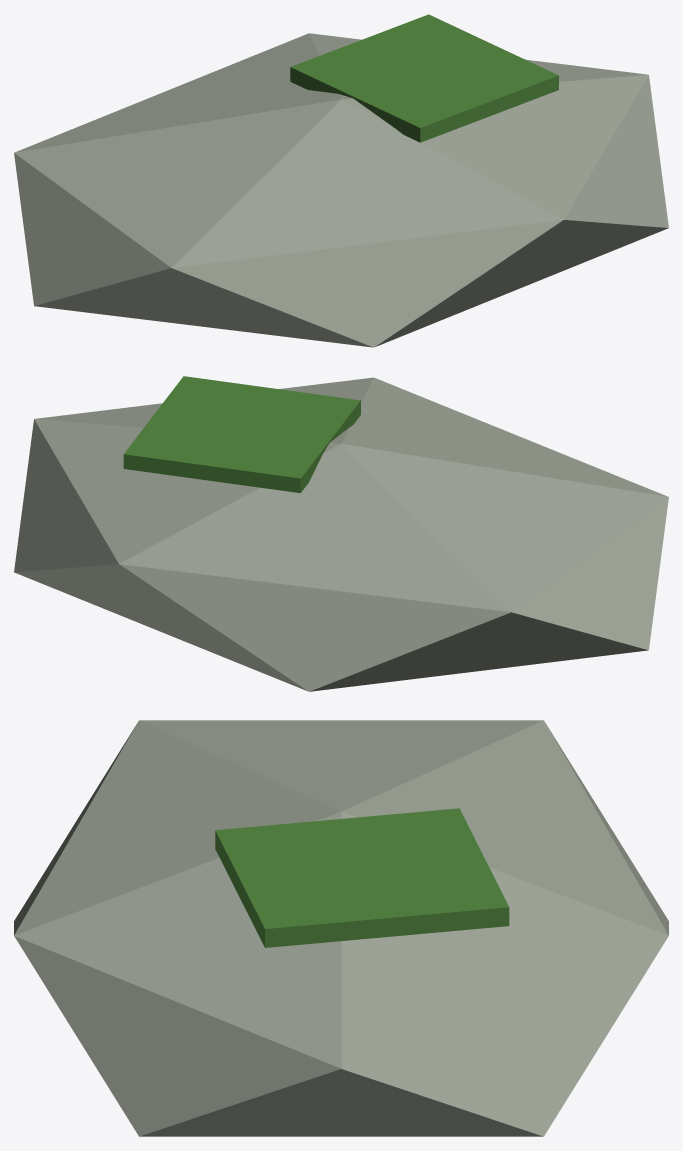
Rendered from SM_MistForestFlatStoneSlab_A.glb.
3 renders of one model, top to bottom at view 1: azimuth 30°, elevation 25°; view 2: azimuth 150°, elevation 25°; view 3: azimuth 270°, elevation 25°, orthographic. The views are drawn at different scales.
Parts seen in each view (by area): view 1: SM_MistForestFlatStoneSlab_A; view 2: SM_MistForestFlatStoneSlab_A; view 3: SM_MistForestFlatStoneSlab_A.
Boxes of the visible parts, <box> form: SM_MistForestFlatStoneSlab_A: <box>14,14,668,347</box>; SM_MistForestFlatStoneSlab_A: <box>14,376,668,691</box>; SM_MistForestFlatStoneSlab_A: <box>14,720,668,1136</box>.
Size of the model in its own units: 4.38 by 1.24 by 3.15.
